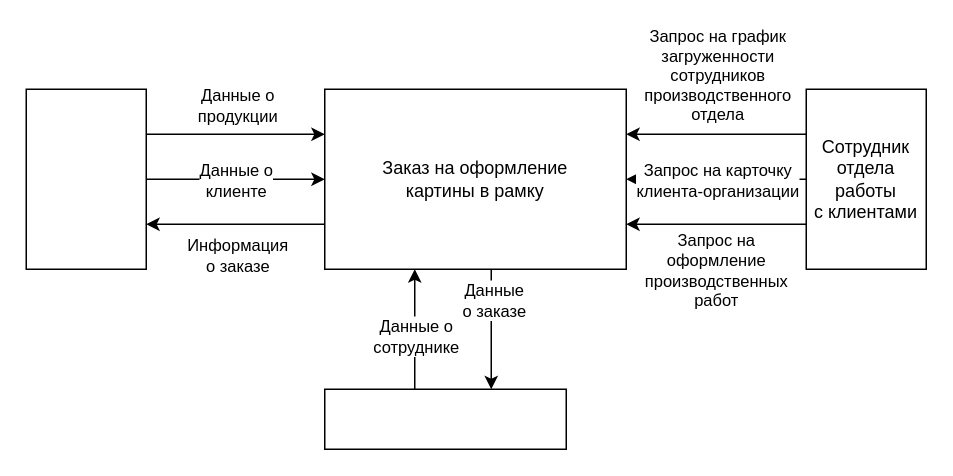
Some shapes in this 953 by 476 pixel diagram are drawn without their labels. The box of each missing label's shape, as (x1, y1, x2, y2) in pixels:
Клиент: (25, 88, 146, 269)
Сотрудник производственного отдела: (323, 388, 566, 449)
